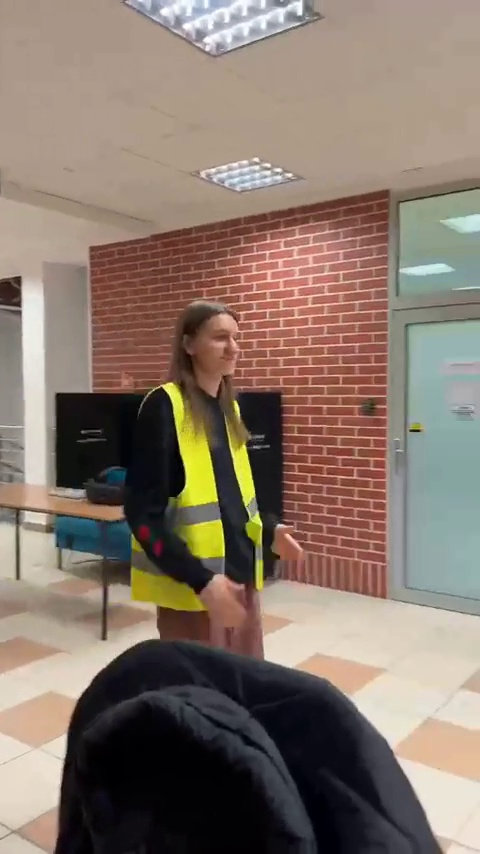vest: (127, 298, 295, 644)
